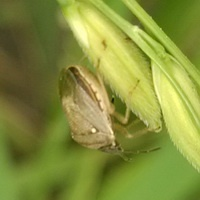insect: (59, 65, 159, 160)
